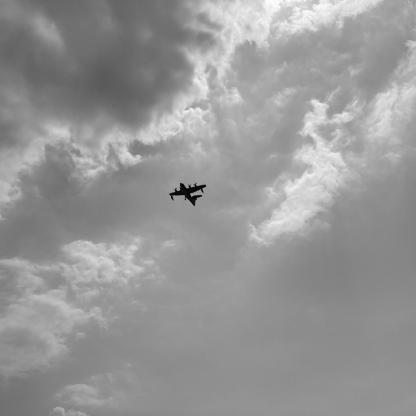US2: (170, 183, 208, 208)
